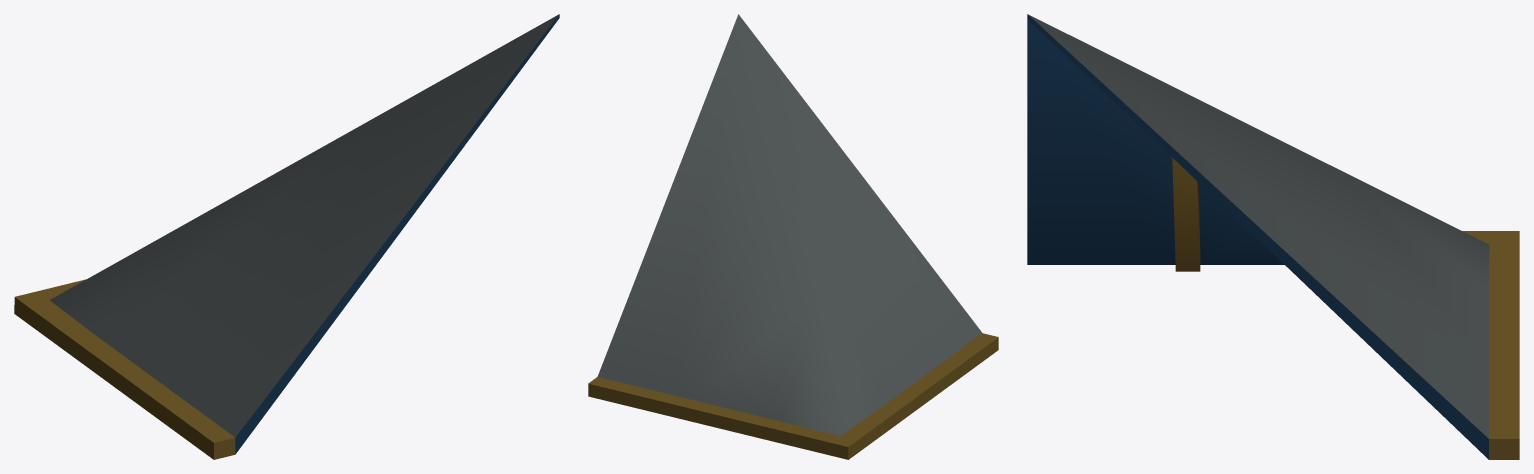
The model's file is CornerRoof.fbx.
The picture shows the model from 3 angles, left to right: view 1: azimuth 30°, elevation 25°; view 2: azimuth 150°, elevation 25°; view 3: azimuth 270°, elevation 25°; orthographic projection. The views are drawn at different scales.
Visible parts, largest first — view 1: pCube62; view 2: pCube62; view 3: pCube62.
Part boxes in pixels (bbox=[...]): pCube62: bbox=[14, 14, 559, 459]; pCube62: bbox=[588, 14, 998, 459]; pCube62: bbox=[1027, 14, 1519, 459].
Size of the model in its own units: 3 by 3 by 3.
